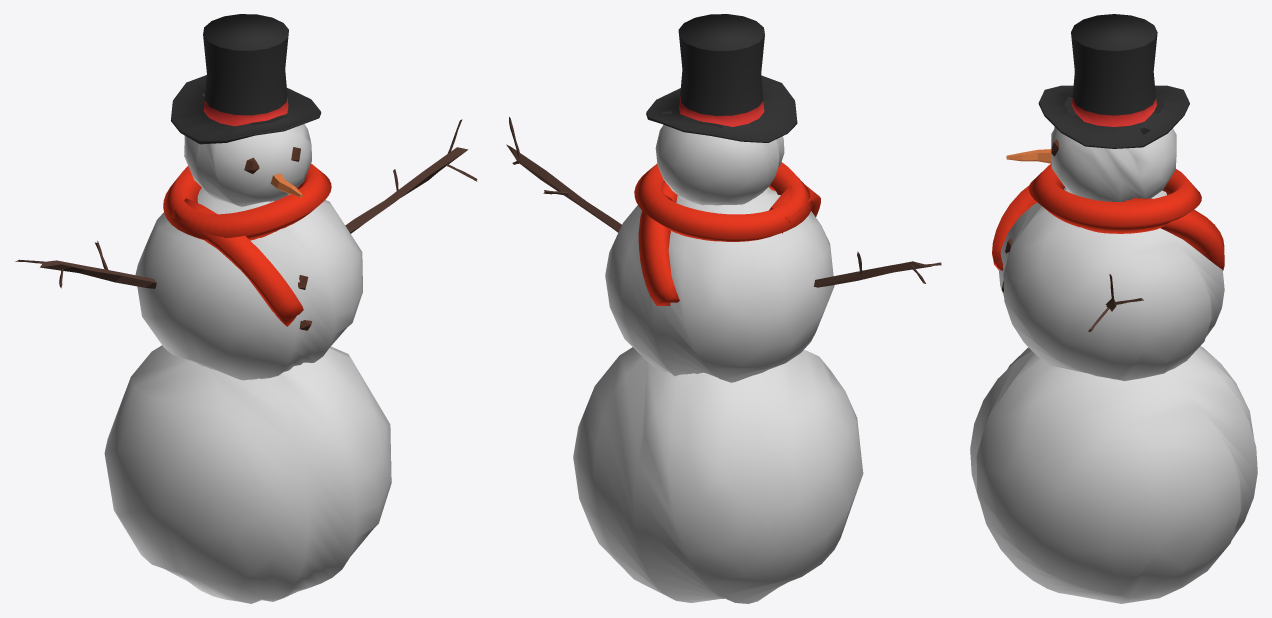
The model's file is Snawman.fbx.
3 renders of one model, left to right at view 1: azimuth 30°, elevation 25°; view 2: azimuth 150°, elevation 25°; view 3: azimuth 270°, elevation 25°, orthographic.
Parts seen in each view (by area): view 1: originalSnowball; view 2: originalSnowball; view 3: originalSnowball.
Boxes of the visible parts, x1,y1,x2,y2 form: originalSnowball: (15,14,477,603); originalSnowball: (506,14,941,603); originalSnowball: (970,14,1257,603).
Bounding box in the file's own units: 422 × 515 × 241.
